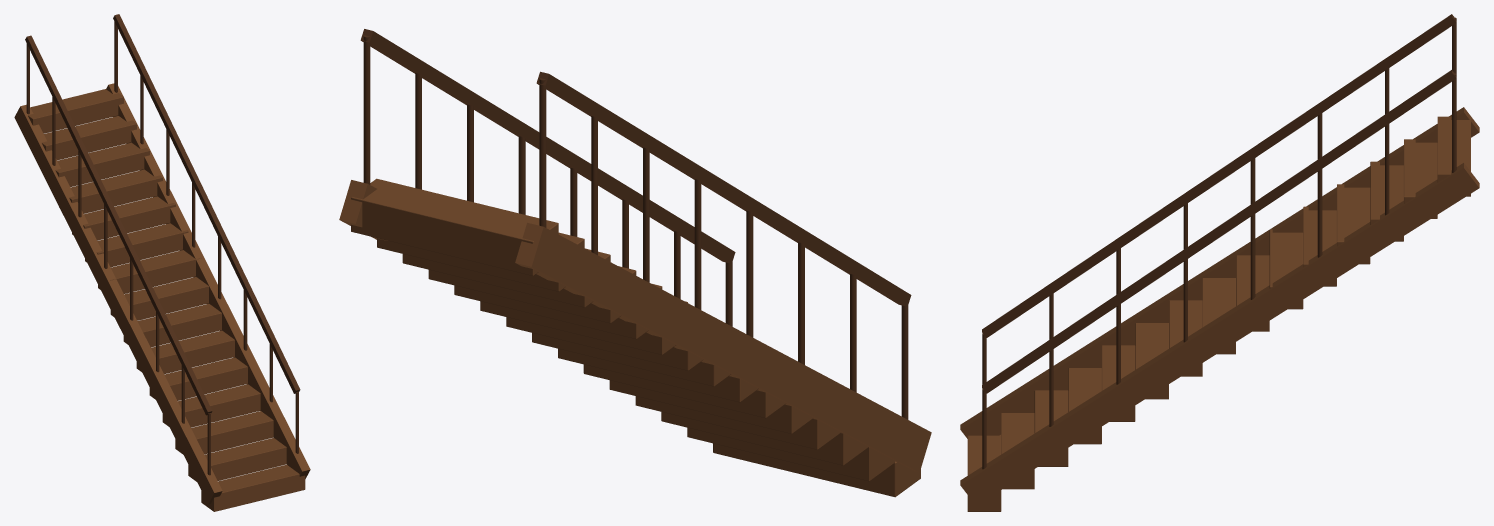
The picture shows the model from 3 angles, left to right: view 1: azimuth 30°, elevation 25°; view 2: azimuth 150°, elevation 25°; view 3: azimuth 270°, elevation 25°; orthographic projection. The views are drawn at different scales.
Visible parts, largest first — view 1: STRINGER, STRINGER.001, HANDRAIL, HANDRAIL.001, STEP_0, STEP_14, STEP_1, STEP_13, STEP_2, STEP_12, STEP_11, STEP_10 (+7 smaller); view 2: STRINGER, STEP_14, HANDRAIL, HANDRAIL.001, STEP_0, STEP_1, STEP_2, STEP_3, STEP_4, STEP_5, STEP_6, STEP_7 (+18 smaller); view 3: STRINGER.001, STRINGER, HANDRAIL.001, HANDRAIL, STEP_13, STEP_14, STEP_11, STEP_9, STEP_12, STEP_7, STEP_0, STEP_5 (+7 smaller).
Boxes of the visible parts, x1,y1,x2,y2 form: STRINGER: [14, 104, 222, 504]; STRINGER.001: [106, 83, 310, 478]; HANDRAIL: [25, 35, 212, 415]; HANDRAIL.001: [113, 14, 300, 393]; STEP_0: [201, 464, 305, 511]; STEP_14: [28, 89, 123, 133]; STEP_1: [188, 438, 286, 481]; STEP_13: [42, 116, 136, 160]; STEP_2: [175, 411, 273, 454]; STEP_12: [55, 142, 149, 186]; STEP_11: [59, 169, 162, 213]; STEP_10: [72, 196, 175, 240]; STRINGER: [515, 222, 931, 472]; STEP_14: [351, 178, 558, 275]; HANDRAIL: [536, 71, 911, 306]; HANDRAIL.001: [360, 29, 735, 263]; STEP_0: [713, 443, 920, 497]; STEP_1: [687, 427, 894, 481]; STEP_2: [661, 412, 868, 465]; STEP_3: [635, 396, 840, 449]; STEP_4: [609, 380, 813, 433]; STEP_5: [583, 364, 785, 418]; STEP_6: [558, 348, 758, 402]; STEP_7: [532, 333, 730, 386]; STRINGER.001: [960, 163, 1479, 505]; STRINGER: [960, 107, 1479, 438]; HANDRAIL.001: [982, 70, 1456, 393]; HANDRAIL: [982, 14, 1456, 337]; STEP_13: [1404, 139, 1437, 218]; STEP_14: [1437, 116, 1470, 196]; STEP_11: [1337, 184, 1370, 264]; STEP_9: [1269, 229, 1303, 309]; STEP_12: [1370, 161, 1403, 241]; STEP_7: [1202, 278, 1235, 354]; STEP_0: [967, 434, 1001, 511]; STEP_5: [1135, 323, 1168, 399].
Size of the model in its own units: 1.16 by 3.91 by 4.18.
